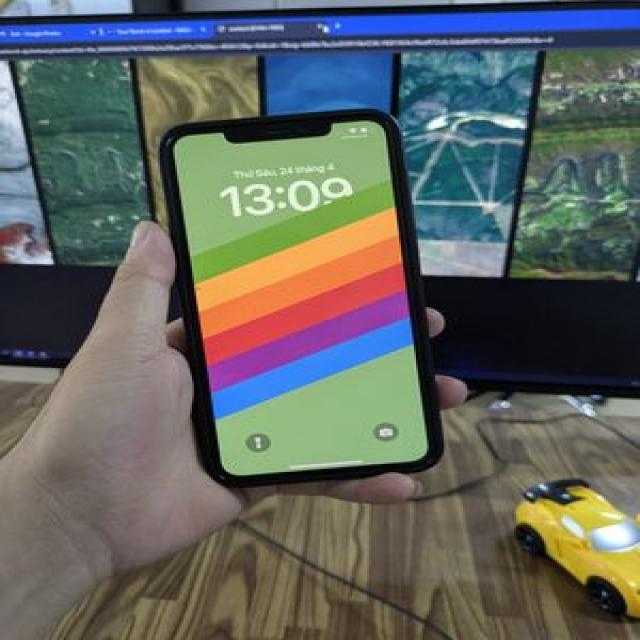gen_11: (160, 109, 439, 485)
